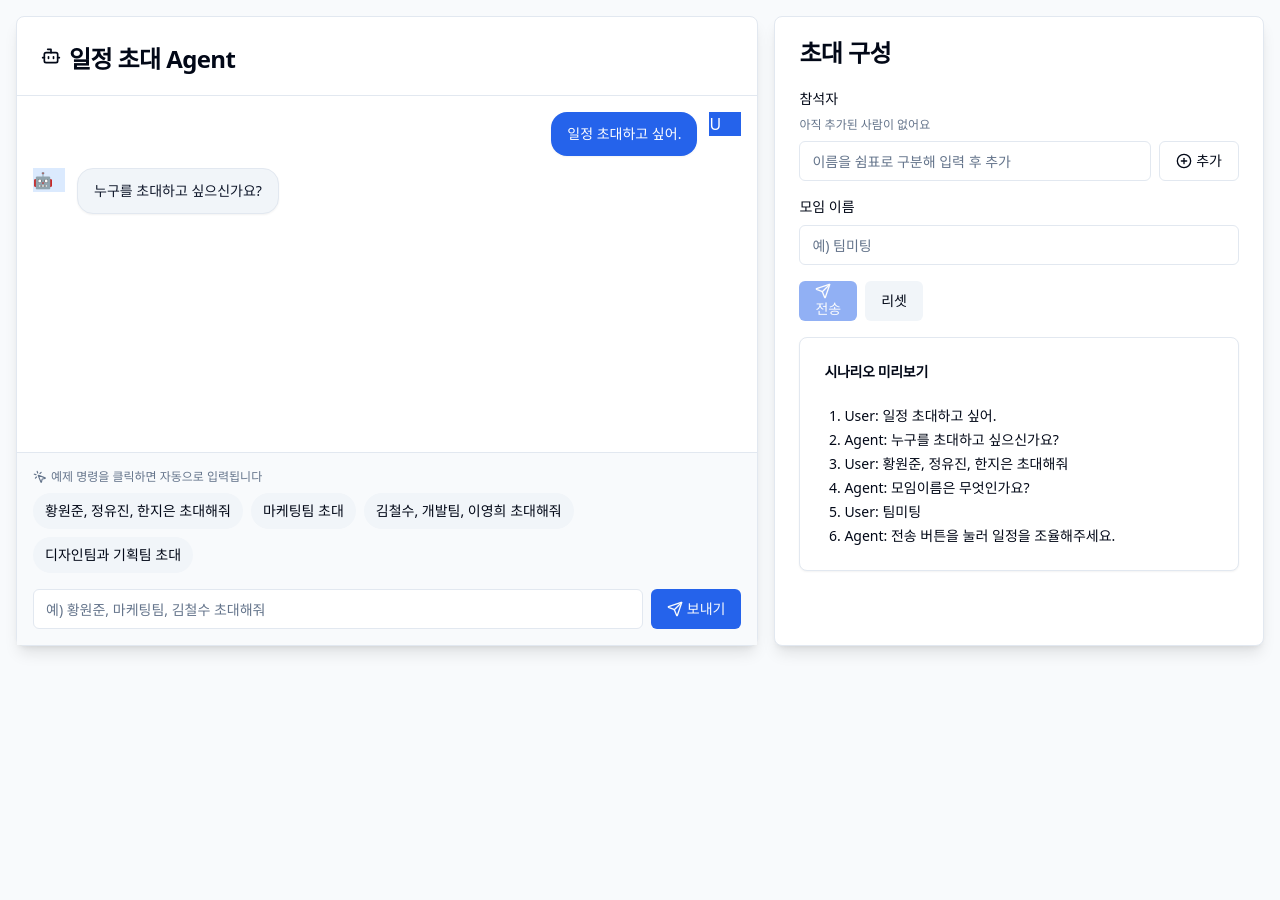
Test: AgentScheduler › handles title input correctly
// Add participants first
Type "김철수" into the field with placeholder "예) 황원준, 마케팅팀, 김철수 초대해줘" at (338, 609), box [33,589,643,629]
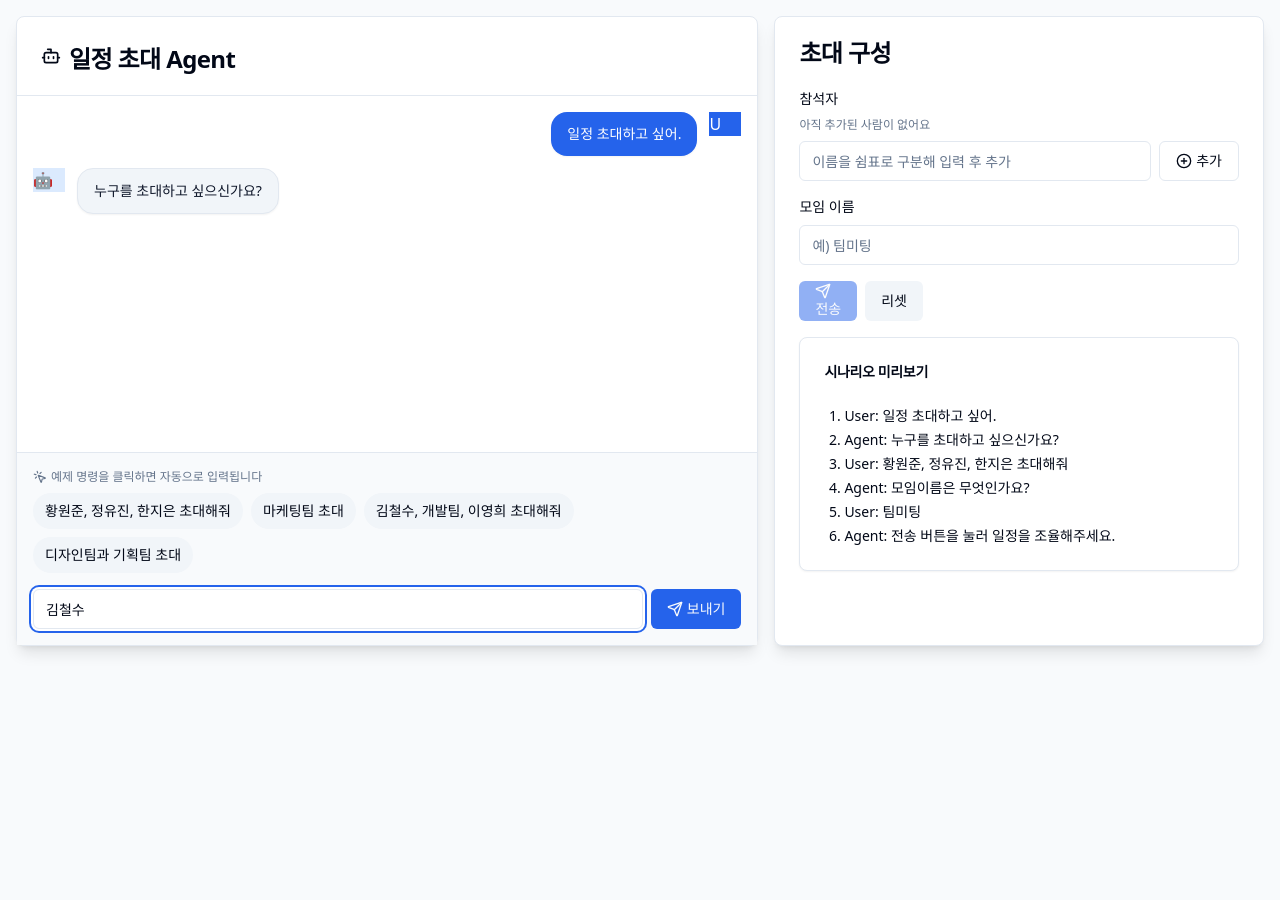
Press Enter
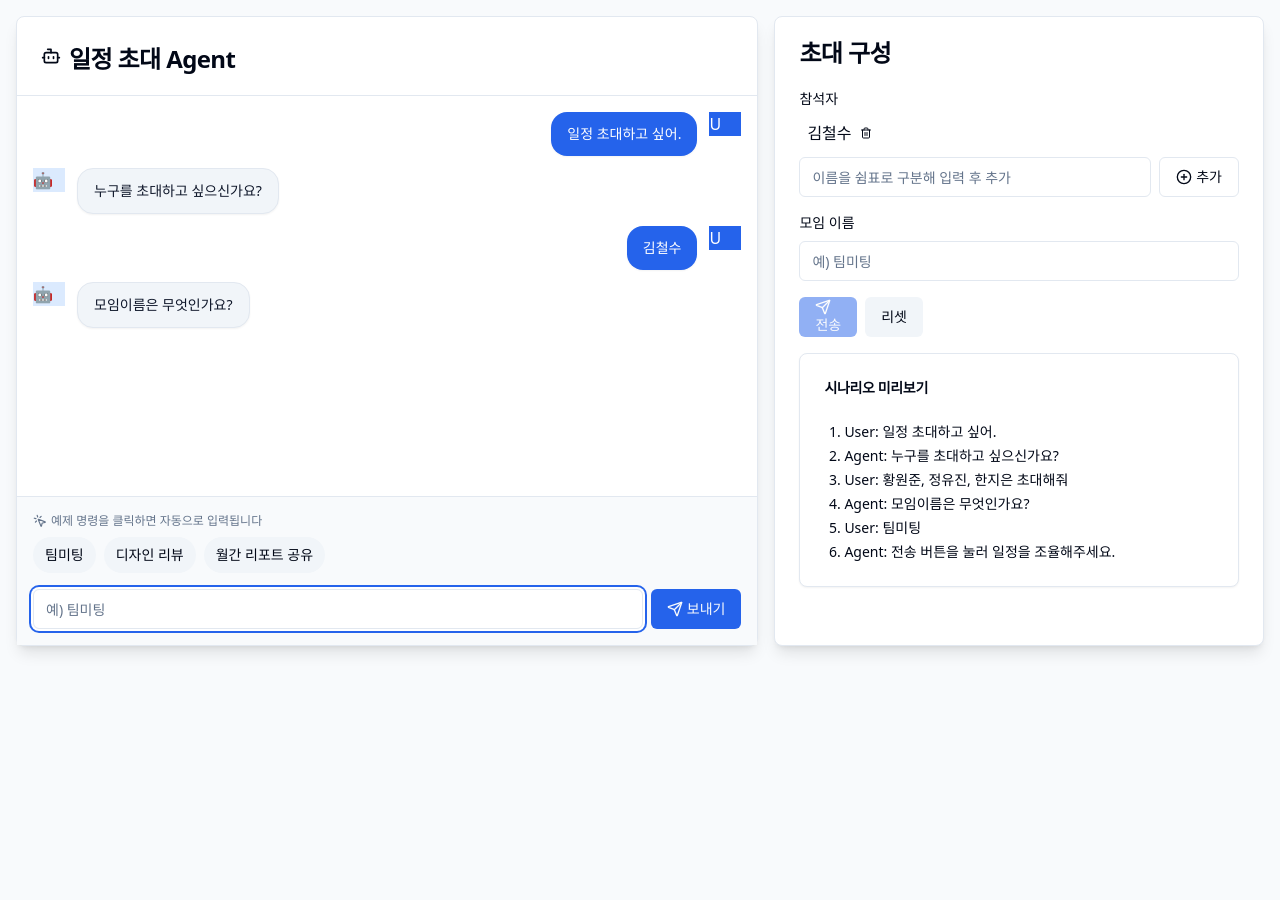
// Then add title - use getAllByPlaceholderText and select the first one (chat input)
Type "팀 미팅" into the field with placeholder "예) 팀미팅" below "예제 명령을 클릭하면 자동으로 입력됩니다" at (338, 609), box [33,589,643,629]
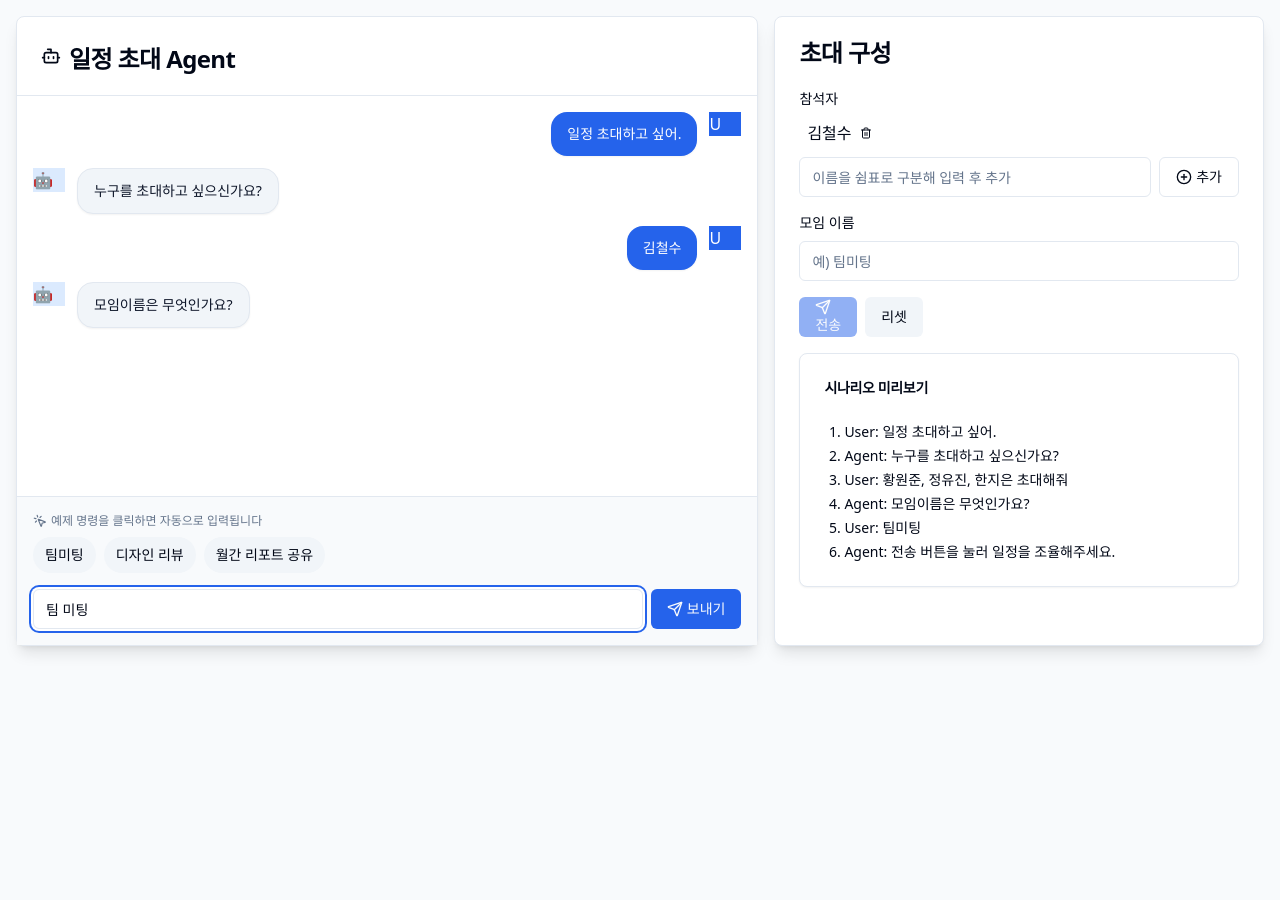
Press Enter
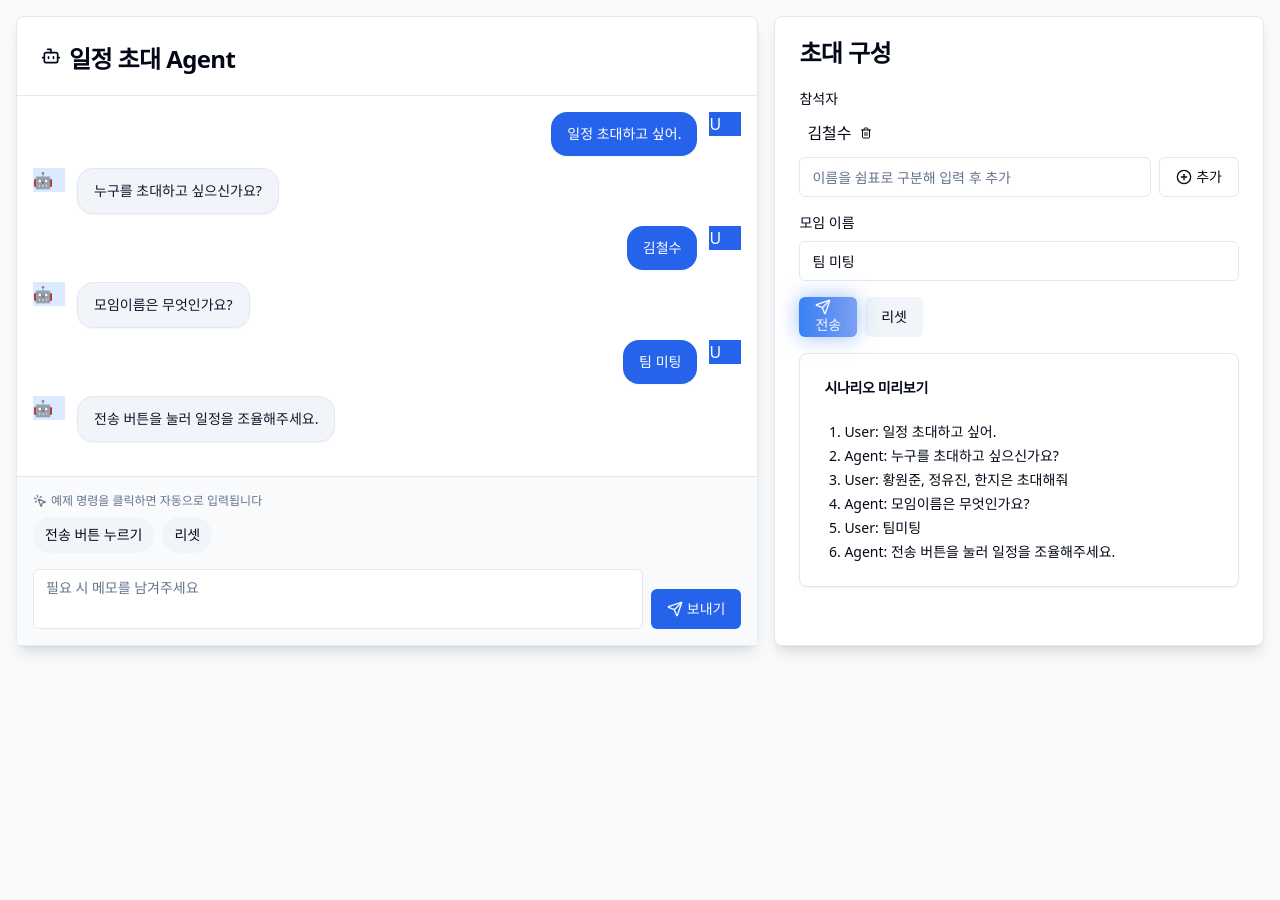
expect the text "팀 미팅" is shown: met, box [623,340,697,384]
